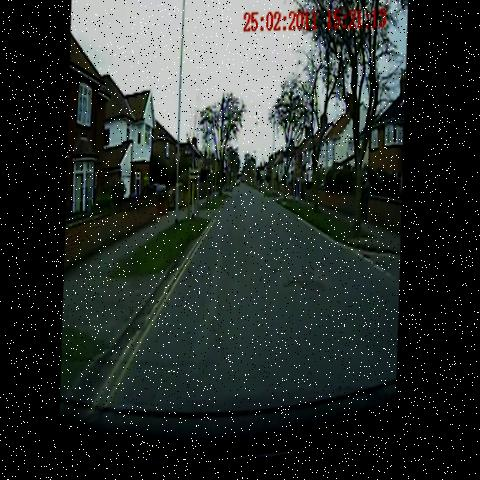pothole: (266, 261, 334, 308)
